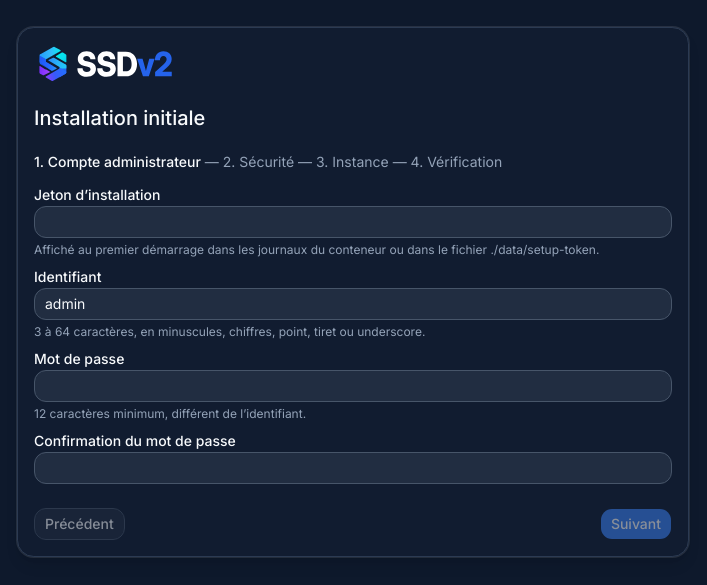
SetupPage › blocks the account step while passwords differ
Type "jeton-installation" into the field labelled "Jeton d’installation".
click(353, 222); type("jeton-installation")  # box [34,206,672,238]
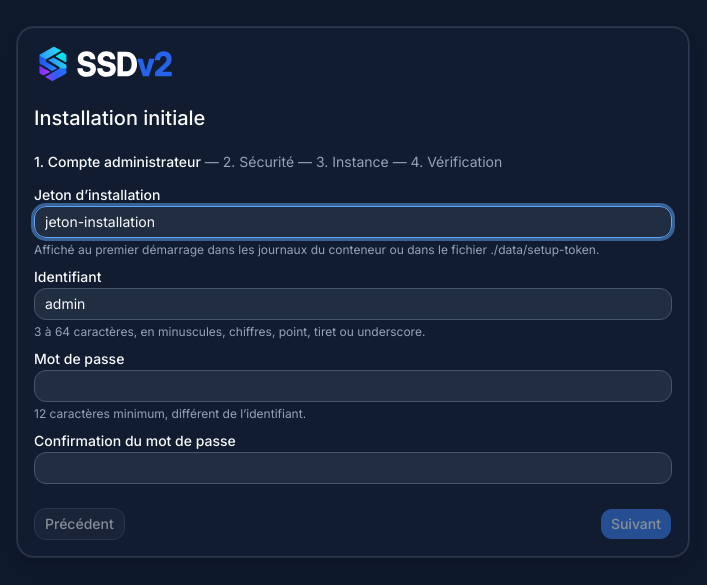
Type "motdepasse-tres-long" into the password field labelled "Mot de passe".
click(353, 386); type("motdepasse-tres-long")  # box [34,370,672,402]
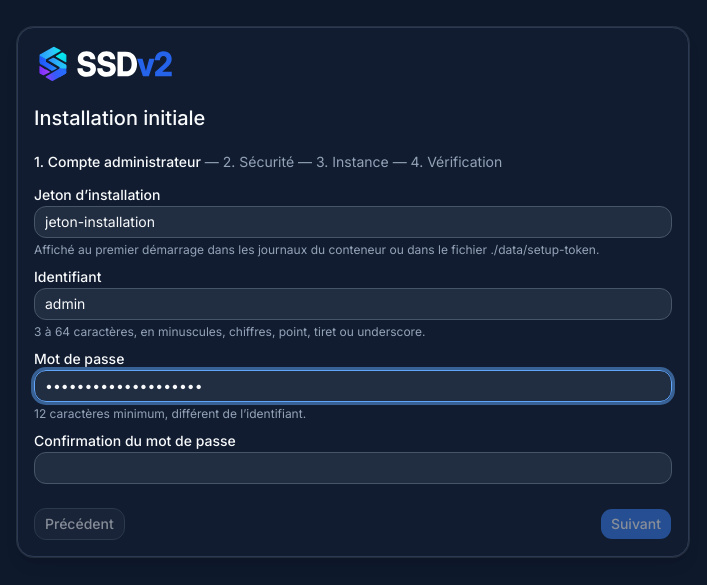
Type "different-mot-de-passe" into the password field labelled "Confirmation du mot de passe".
click(353, 468); type("different-mot-de-passe")  # box [34,452,672,484]
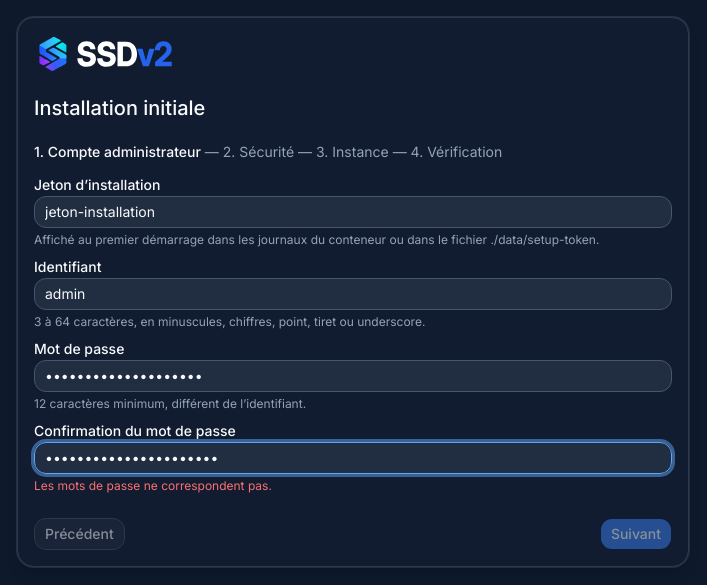
Expected: the button "Suivant" is disabled, [600,518,672,550]
Result: the text "Les mots de passe ne correspondent pas." is shown at [34,478,272,493]
